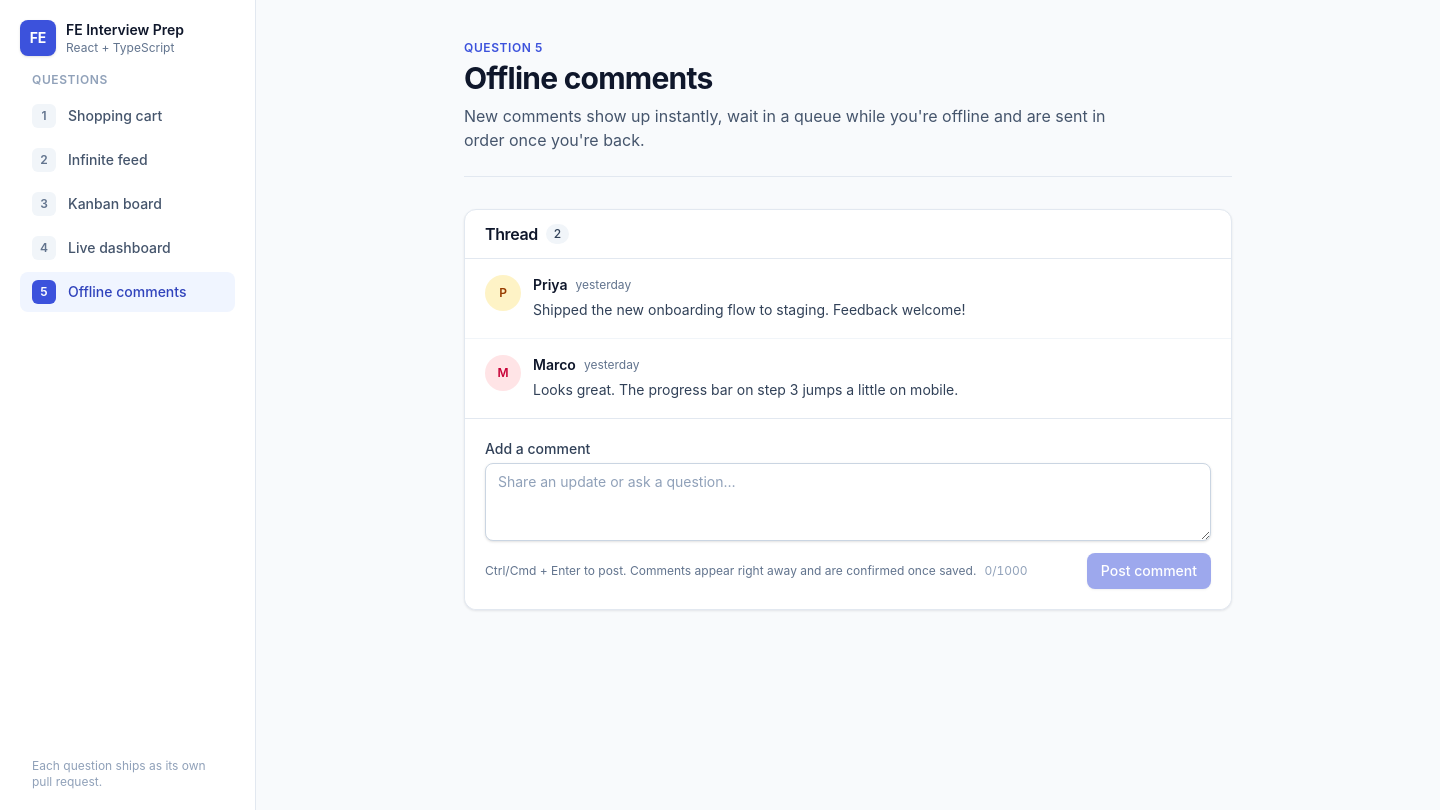
Test: posts with Ctrl+Enter from the comment box
Expected: the text "Shipped the new onboarding flow" is shown, [533,301,965,318]
Type "Keyboard first" into the text box labelled "Add a comment" at (848, 502), box [485,462,1211,540]
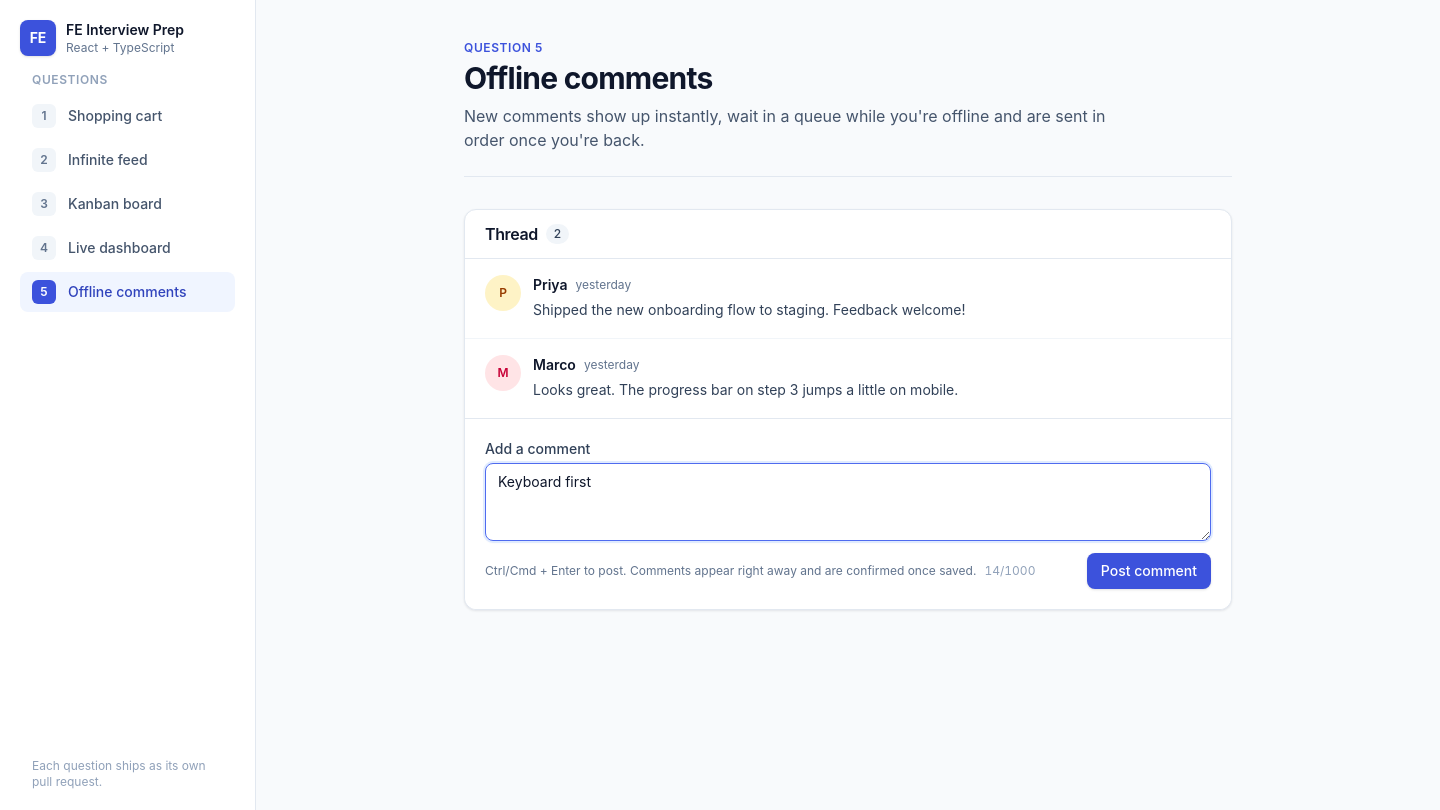
Type keys "{Control>}{Enter}{/Control}"
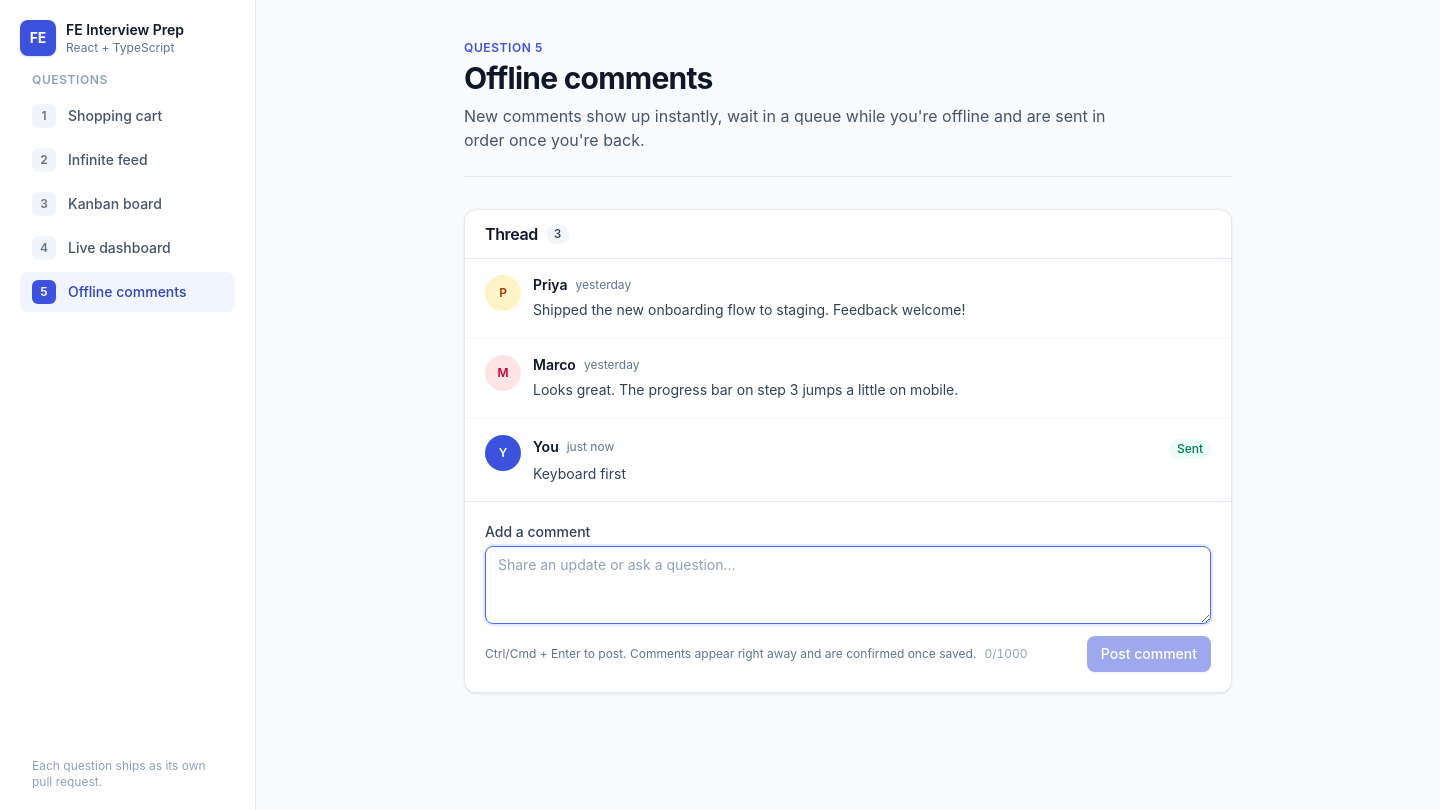
Expected: the text "Keyboard first" is shown, [533,464,626,482]
Expected: the text box labelled "Add a comment" is empty, [485,546,1211,624]
